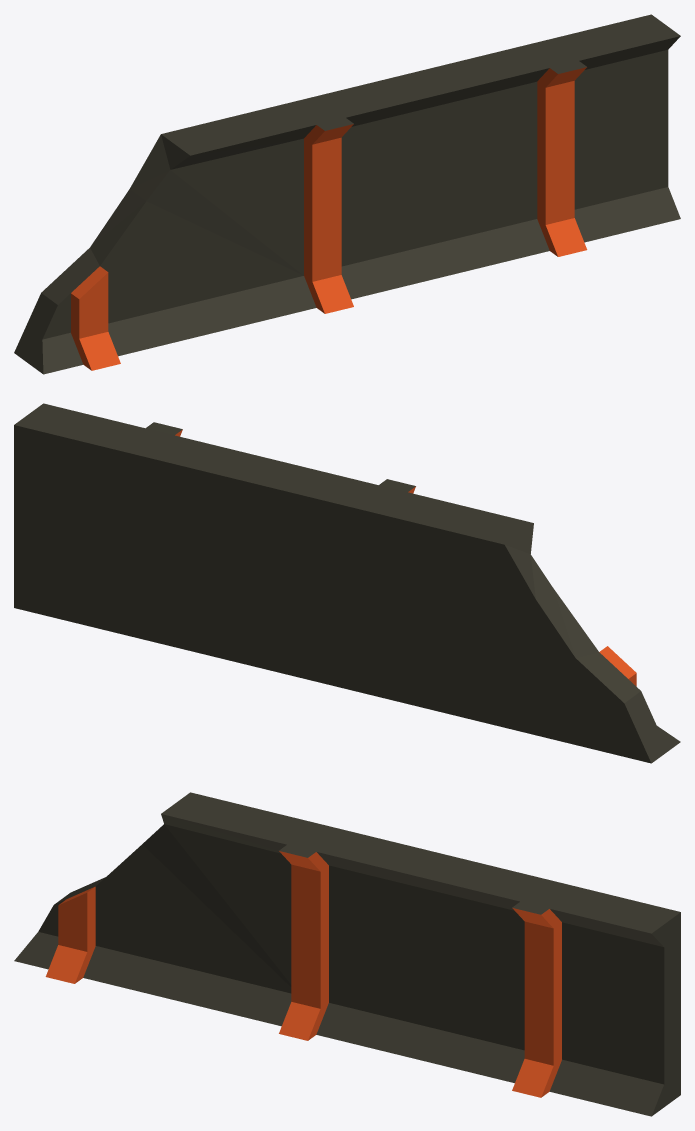
File: CrackedWallLong02.fbx
3 views of the same model, one above another, from view 1: azimuth 30°, elevation 25°; view 2: azimuth 150°, elevation 25°; view 3: azimuth 330°, elevation 25° (orthographic).
Parts seen in each view (by area): view 1: CrackedWallLong02; view 2: CrackedWallLong02; view 3: CrackedWallLong02.
Part boxes in pixels (box(x1,y1,x2,y2)): CrackedWallLong02: box(14, 14, 680, 374); CrackedWallLong02: box(14, 403, 680, 763); CrackedWallLong02: box(14, 792, 680, 1116).
Size of the model in its own units: 1094 by 300 by 113.
